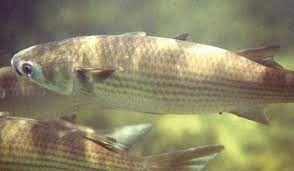Mullet: (2, 31, 293, 113), (0, 119, 243, 171)
